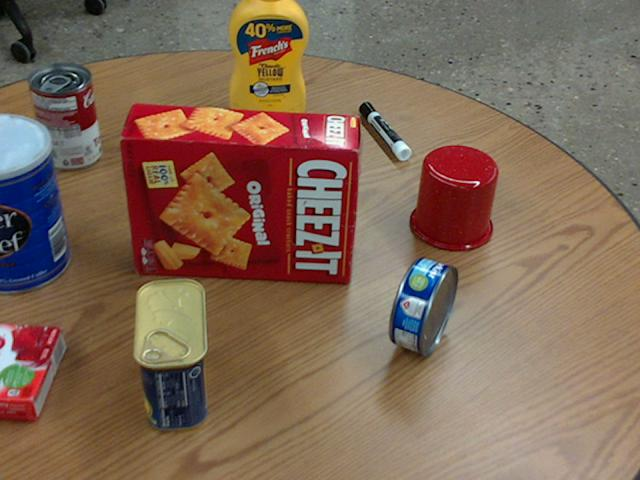cracker_box: (122, 104, 359, 283)
gelatin_box: (0, 323, 63, 417)
large_marker: (360, 101, 411, 160)
master_chef_can: (0, 114, 69, 294)
mug: (408, 144, 497, 250)
mustard_bottle: (229, 0, 308, 119)
potted_meat_can: (131, 277, 204, 429)
sugar_box: (152, 111, 315, 192)
tomato_soup_can: (29, 63, 101, 168)
tuna_fish_can: (390, 257, 456, 354)
